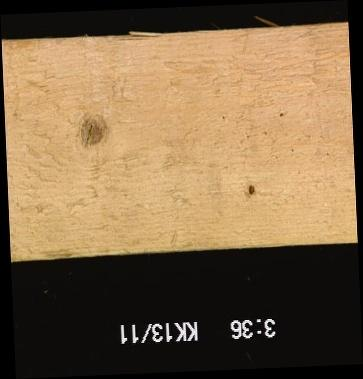small_knot: (247, 182, 257, 195)
sound_knot: (78, 114, 107, 146)
wave: (108, 33, 166, 46)
